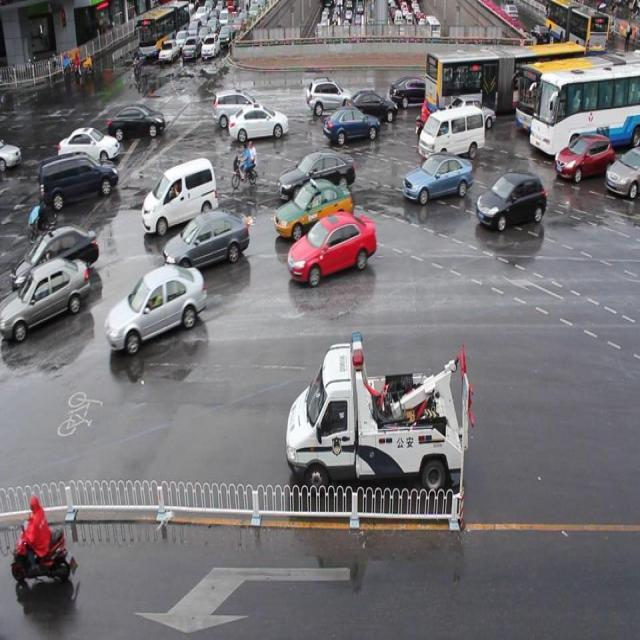bus: (286, 334, 474, 497)
car: (106, 265, 206, 352), (0, 259, 90, 340), (287, 211, 375, 278), (142, 160, 218, 233), (13, 227, 99, 290), (272, 178, 353, 239), (165, 212, 249, 270), (39, 152, 119, 208), (476, 170, 545, 228), (280, 151, 355, 199), (402, 155, 473, 201), (555, 135, 614, 183), (59, 126, 120, 164), (228, 105, 288, 142), (322, 106, 380, 144), (108, 105, 164, 140), (388, 75, 442, 111), (604, 145, 640, 199), (306, 76, 354, 116), (212, 90, 262, 128), (442, 96, 495, 130), (345, 89, 396, 123)
truck: (419, 105, 484, 160)
van: (426, 45, 585, 113), (527, 70, 640, 154), (516, 57, 640, 133)
